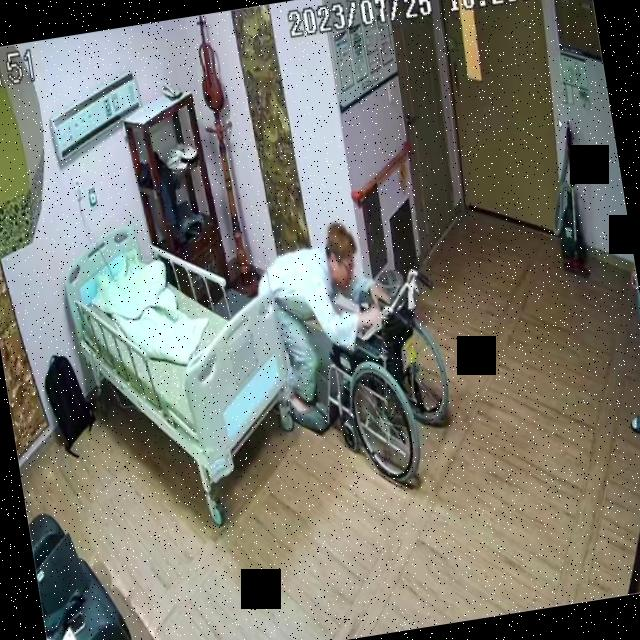bed: (59, 210, 304, 504)
danger: (255, 219, 391, 412)
patient: (252, 216, 395, 416)
wheelchair: (303, 262, 462, 500)
